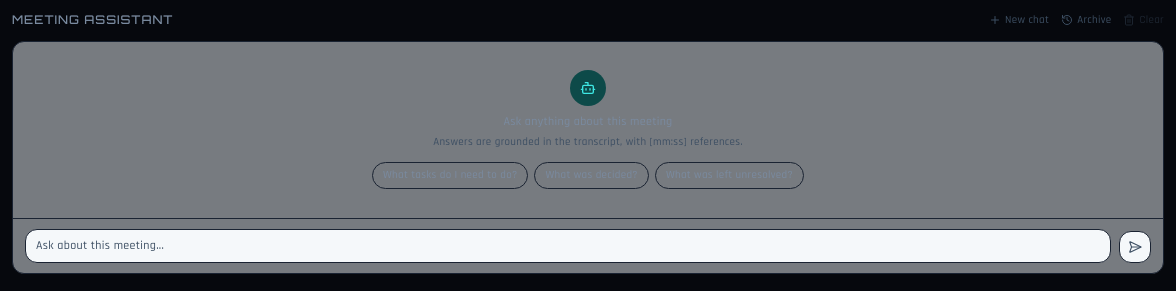
Test: LiveAssistantSection (post-meeting Q&A chat) › shows a streamed main-process error event without hanging the input
Type "What did we decide?" into the text box labelled "Ask about this meeting".
click(568, 246); type("What did we decide?")  # box [25, 228, 1111, 262]
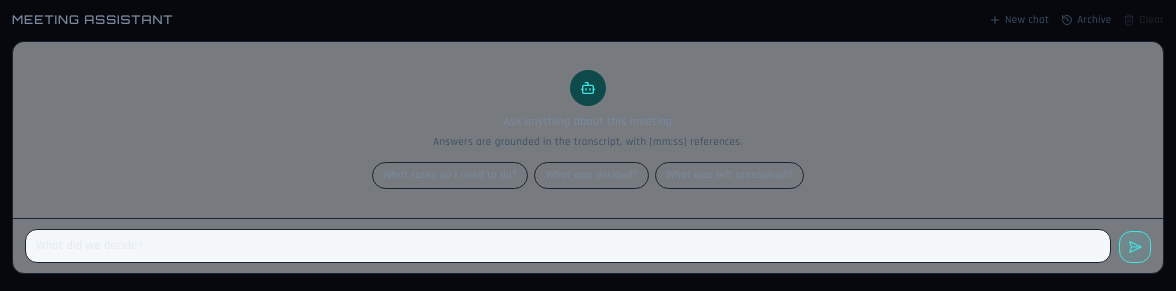
Click the button named "Send message".
click(1135, 246)  # box [1119, 230, 1151, 262]
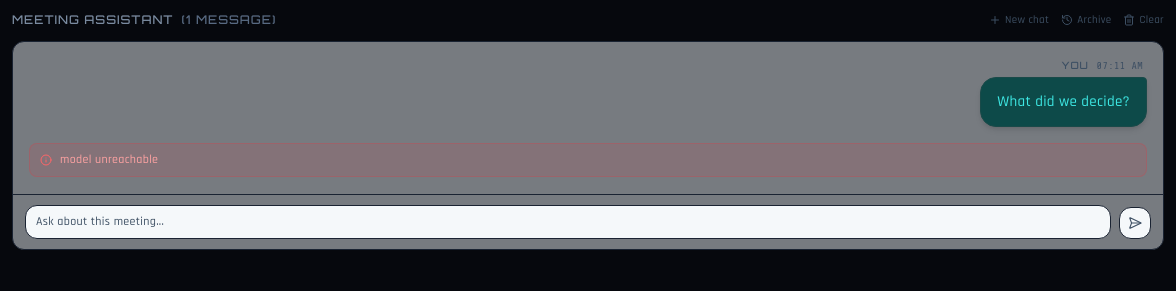
Expected: the text box labelled "Ask about this meeting" is enabled, [25, 205, 1111, 239]
Expected: the text "model unreachable" is shown, [60, 152, 158, 168]
